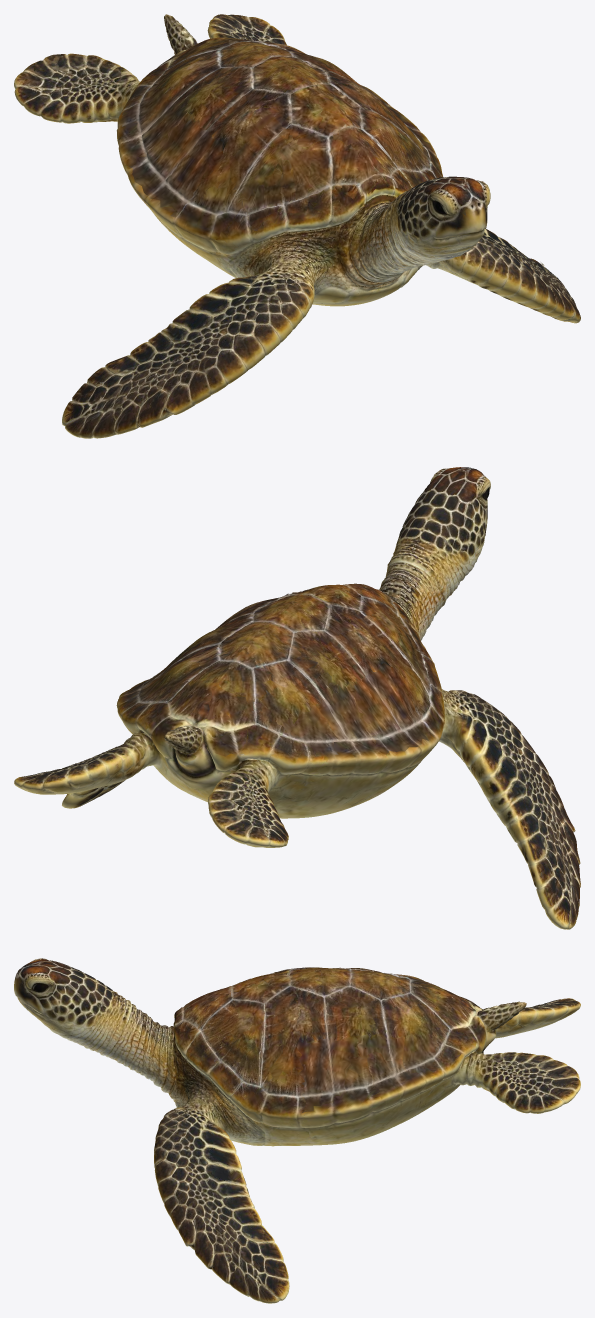
The model's file is sea-turtle.glb.
3 views of the same model, one above another, from view 1: azimuth 30°, elevation 25°; view 2: azimuth 150°, elevation 25°; view 3: azimuth 270°, elevation 25° (orthographic). The views are drawn at different scales.
Bounding box in the file's own units: 1.01 × 0.5621 × 1.2.
1 material, 1 textured.
